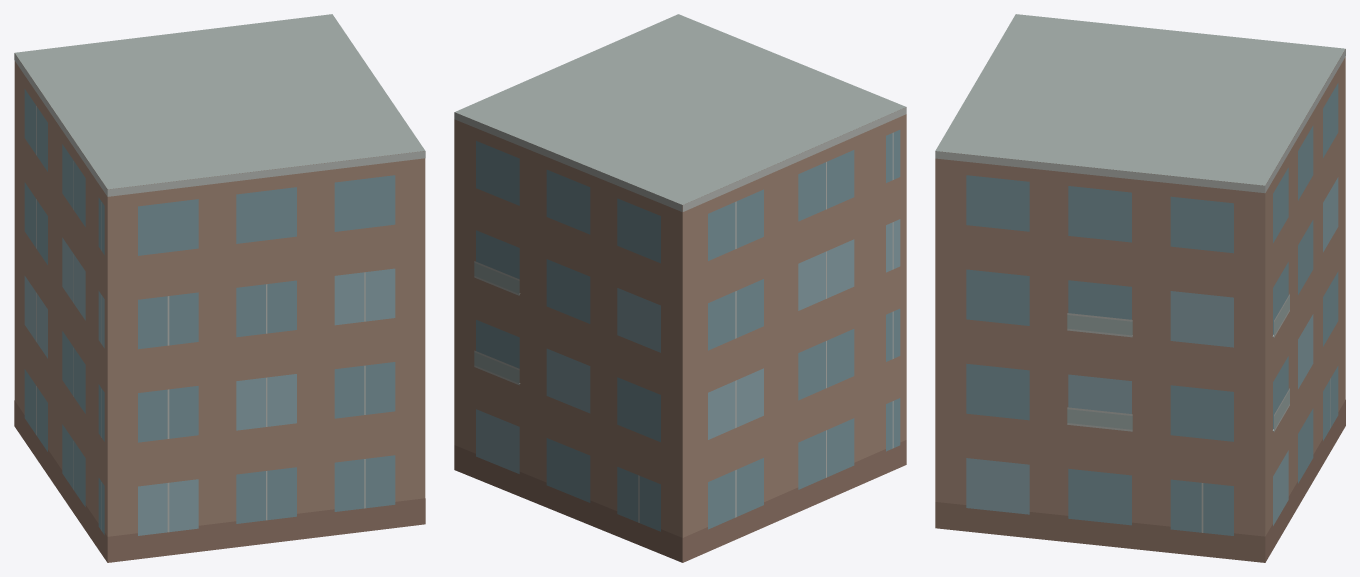
File: residential-1cdd03aa-d231-4469-bbd7-efc898ba62ca.glb
3 renders of one model, left to right at view 1: azimuth 30°, elevation 25°; view 2: azimuth 150°, elevation 25°; view 3: azimuth 270°, elevation 25°, orthographic. The views are drawn at different scales.
Parts seen in each view (by area): view 1: residential-1cdd03aa-d231-4469-bbd7-efc898ba62ca.tmp; view 2: residential-1cdd03aa-d231-4469-bbd7-efc898ba62ca.tmp; view 3: residential-1cdd03aa-d231-4469-bbd7-efc898ba62ca.tmp.
Boxes of the visible parts, left/top/right/bottom form: residential-1cdd03aa-d231-4469-bbd7-efc898ba62ca.tmp: left=14, top=14, right=425, bottom=562; residential-1cdd03aa-d231-4469-bbd7-efc898ba62ca.tmp: left=454, top=14, right=906, bottom=562; residential-1cdd03aa-d231-4469-bbd7-efc898ba62ca.tmp: left=935, top=14, right=1345, bottom=562.
Size of the model in its own units: 11.92 by 12.2 by 12.05.
